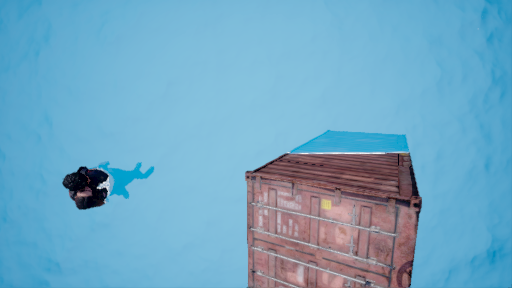person: (56, 162, 155, 211)
